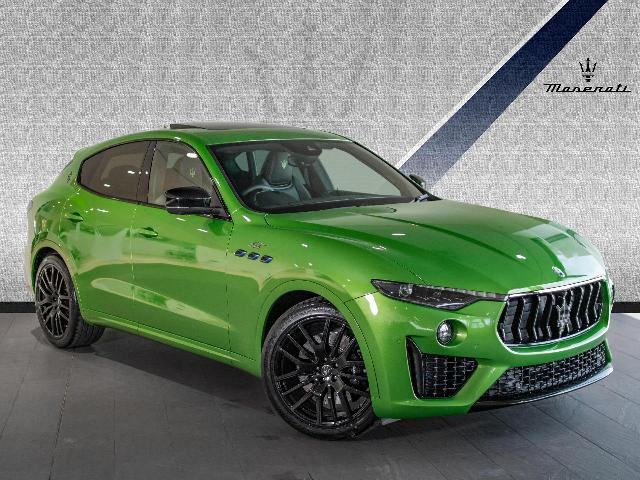maserati: (26, 123, 616, 440)
